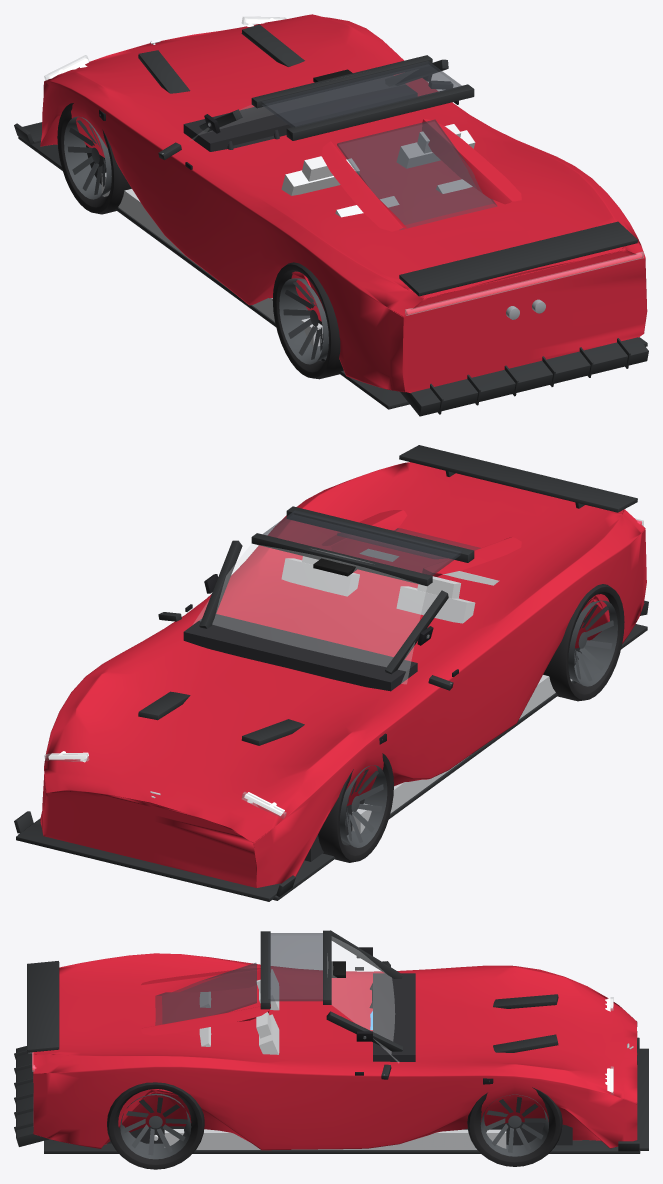
Rendered from Car_Tesla_Roadster_Complete.glb.
The picture shows the model from 3 angles, top to bottom: view 1: azimuth 30°, elevation 25°; view 2: azimuth 150°, elevation 25°; view 3: azimuth 270°, elevation 25°; orthographic projection. The views are drawn at different scales.
Visible parts, largest first — view 1: GEO_Tesla_Roadster_Ultra_Red_Monocoque_Hull, GEO_Tesla_Roadster_Removable_Targa_Roof_Glass, GEO_Tesla_Roadster_Rear_Venturi_Diffuser, GEO_Tesla_Roadster_Active_Aero_Wing, GEO_Tesla_Roadster_Carbon_A_Pillars_and_Halo, GEO_Tesla_Minimalist_Dashboard, GEO_Tesla_Aero_Turbine_Wheels, GEO_Tesla_Roadster_Flying_Buttresses, GEO_Tesla_Michelin_Cup2_Tires, GEO_Tesla_Cyber_Bucket_Seats, GEO_Tesla_Roadster_Frunk_Air_Extractors, GEO_Tesla_Roadster_Underbody_Aero_Tray (+3 smaller); view 2: GEO_Tesla_Roadster_Ultra_Red_Monocoque_Hull, GEO_Tesla_Roadster_Panoramic_Windshield_Glass, GEO_Tesla_Minimalist_Dashboard, GEO_Tesla_Roadster_Carbon_A_Pillars_and_Halo, GEO_Tesla_Roadster_Removable_Targa_Roof_Glass, GEO_Tesla_Aero_Turbine_Wheels, GEO_Tesla_Michelin_Cup2_Tires, GEO_Tesla_Roadster_Active_Aero_Wing, GEO_Tesla_Cyber_Bucket_Seats, GEO_Tesla_Roadster_Carbon_Front_Splitter, GEO_Tesla_Roadster_Flying_Buttresses, GEO_Tesla_Roadster_Underbody_Aero_Tray (+4 smaller); view 3: GEO_Tesla_Roadster_Ultra_Red_Monocoque_Hull, GEO_Tesla_Roadster_Removable_Targa_Roof_Glass, GEO_Tesla_Michelin_Cup2_Tires, GEO_Tesla_Aero_Turbine_Wheels, GEO_Tesla_Roadster_Panoramic_Windshield_Glass, GEO_Tesla_Minimalist_Dashboard, GEO_Tesla_Roadster_Flying_Buttresses, GEO_Tesla_Roadster_Active_Aero_Wing, GEO_Tesla_Roadster_Carbon_A_Pillars_and_Halo, GEO_Tesla_Roadster_Underbody_Aero_Tray, GEO_Tesla_Aluminum_Perimeter_Rails, GEO_Tesla_Roadster_Rear_Venturi_Diffuser (+4 smaller).
Part boxes in pixels (x1,y1,x2,y2): GEO_Tesla_Roadster_Ultra_Red_Monocoque_Hull: (40,14,647,393); GEO_Tesla_Roadster_Removable_Targa_Roof_Glass: (261,61,497,229); GEO_Tesla_Roadster_Rear_Venturi_Diffuser: (400,337,648,416); GEO_Tesla_Roadster_Active_Aero_Wing: (399,221,637,296); GEO_Tesla_Roadster_Carbon_A_Pillars_and_Halo: (199,55,474,140); GEO_Tesla_Minimalist_Dashboard: (183,75,417,151); GEO_Tesla_Aero_Turbine_Wheels: (64,116,328,364); GEO_Tesla_Roadster_Flying_Buttresses: (321,118,521,231); GEO_Tesla_Michelin_Cup2_Tires: (57,103,343,379); GEO_Tesla_Cyber_Bucket_Seats: (281,124,475,217); GEO_Tesla_Roadster_Frunk_Air_Extractors: (138,24,304,93); GEO_Tesla_Roadster_Underbody_Aero_Tray: (18,136,647,409); GEO_Tesla_Roadster_Ultra_Red_Monocoque_Hull: (40,462,646,887); GEO_Tesla_Roadster_Panoramic_Windshield_Glass: (193,544,426,683); GEO_Tesla_Minimalist_Dashboard: (183,614,417,691); GEO_Tesla_Roadster_Carbon_A_Pillars_and_Halo: (199,506,474,674); GEO_Tesla_Roadster_Removable_Targa_Roof_Glass: (263,510,480,575); GEO_Tesla_Aero_Turbine_Wheels: (339,600,617,847); GEO_Tesla_Michelin_Cup2_Tires: (318,584,624,862); GEO_Tesla_Roadster_Active_Aero_Wing: (399,445,637,512); GEO_Tesla_Cyber_Bucket_Seats: (281,549,499,623); GEO_Tesla_Roadster_Carbon_Front_Splitter: (14,811,295,901); GEO_Tesla_Roadster_Flying_Buttresses: (322,510,521,576); GEO_Tesla_Roadster_Underbody_Aero_Tray: (18,624,647,900); GEO_Tesla_Roadster_Ultra_Red_Monocoque_Hull: (33,953,637,1150); GEO_Tesla_Roadster_Removable_Targa_Roof_Glass: (155,933,322,1025); GEO_Tesla_Michelin_Cup2_Tires: (107,1082,562,1169); GEO_Tesla_Aero_Turbine_Wheels: (120,1093,548,1159); GEO_Tesla_Roadster_Panoramic_Windshield_Glass: (327,936,398,1062); GEO_Tesla_Minimalist_Dashboard: (373,973,415,1061); GEO_Tesla_Roadster_Flying_Buttresses: (141,967,270,1035); GEO_Tesla_Roadster_Active_Aero_Wing: (27,961,59,1052); GEO_Tesla_Roadster_Carbon_A_Pillars_and_Halo: (260,930,402,1051); GEO_Tesla_Roadster_Underbody_Aero_Tray: (44,1139,640,1153); GEO_Tesla_Aluminum_Perimeter_Rails: (164,1129,506,1149); GEO_Tesla_Roadster_Rear_Venturi_Diffuser: (14,1046,48,1146).
Size of the model in its own units: 2.04 by 1.23 by 4.74.
